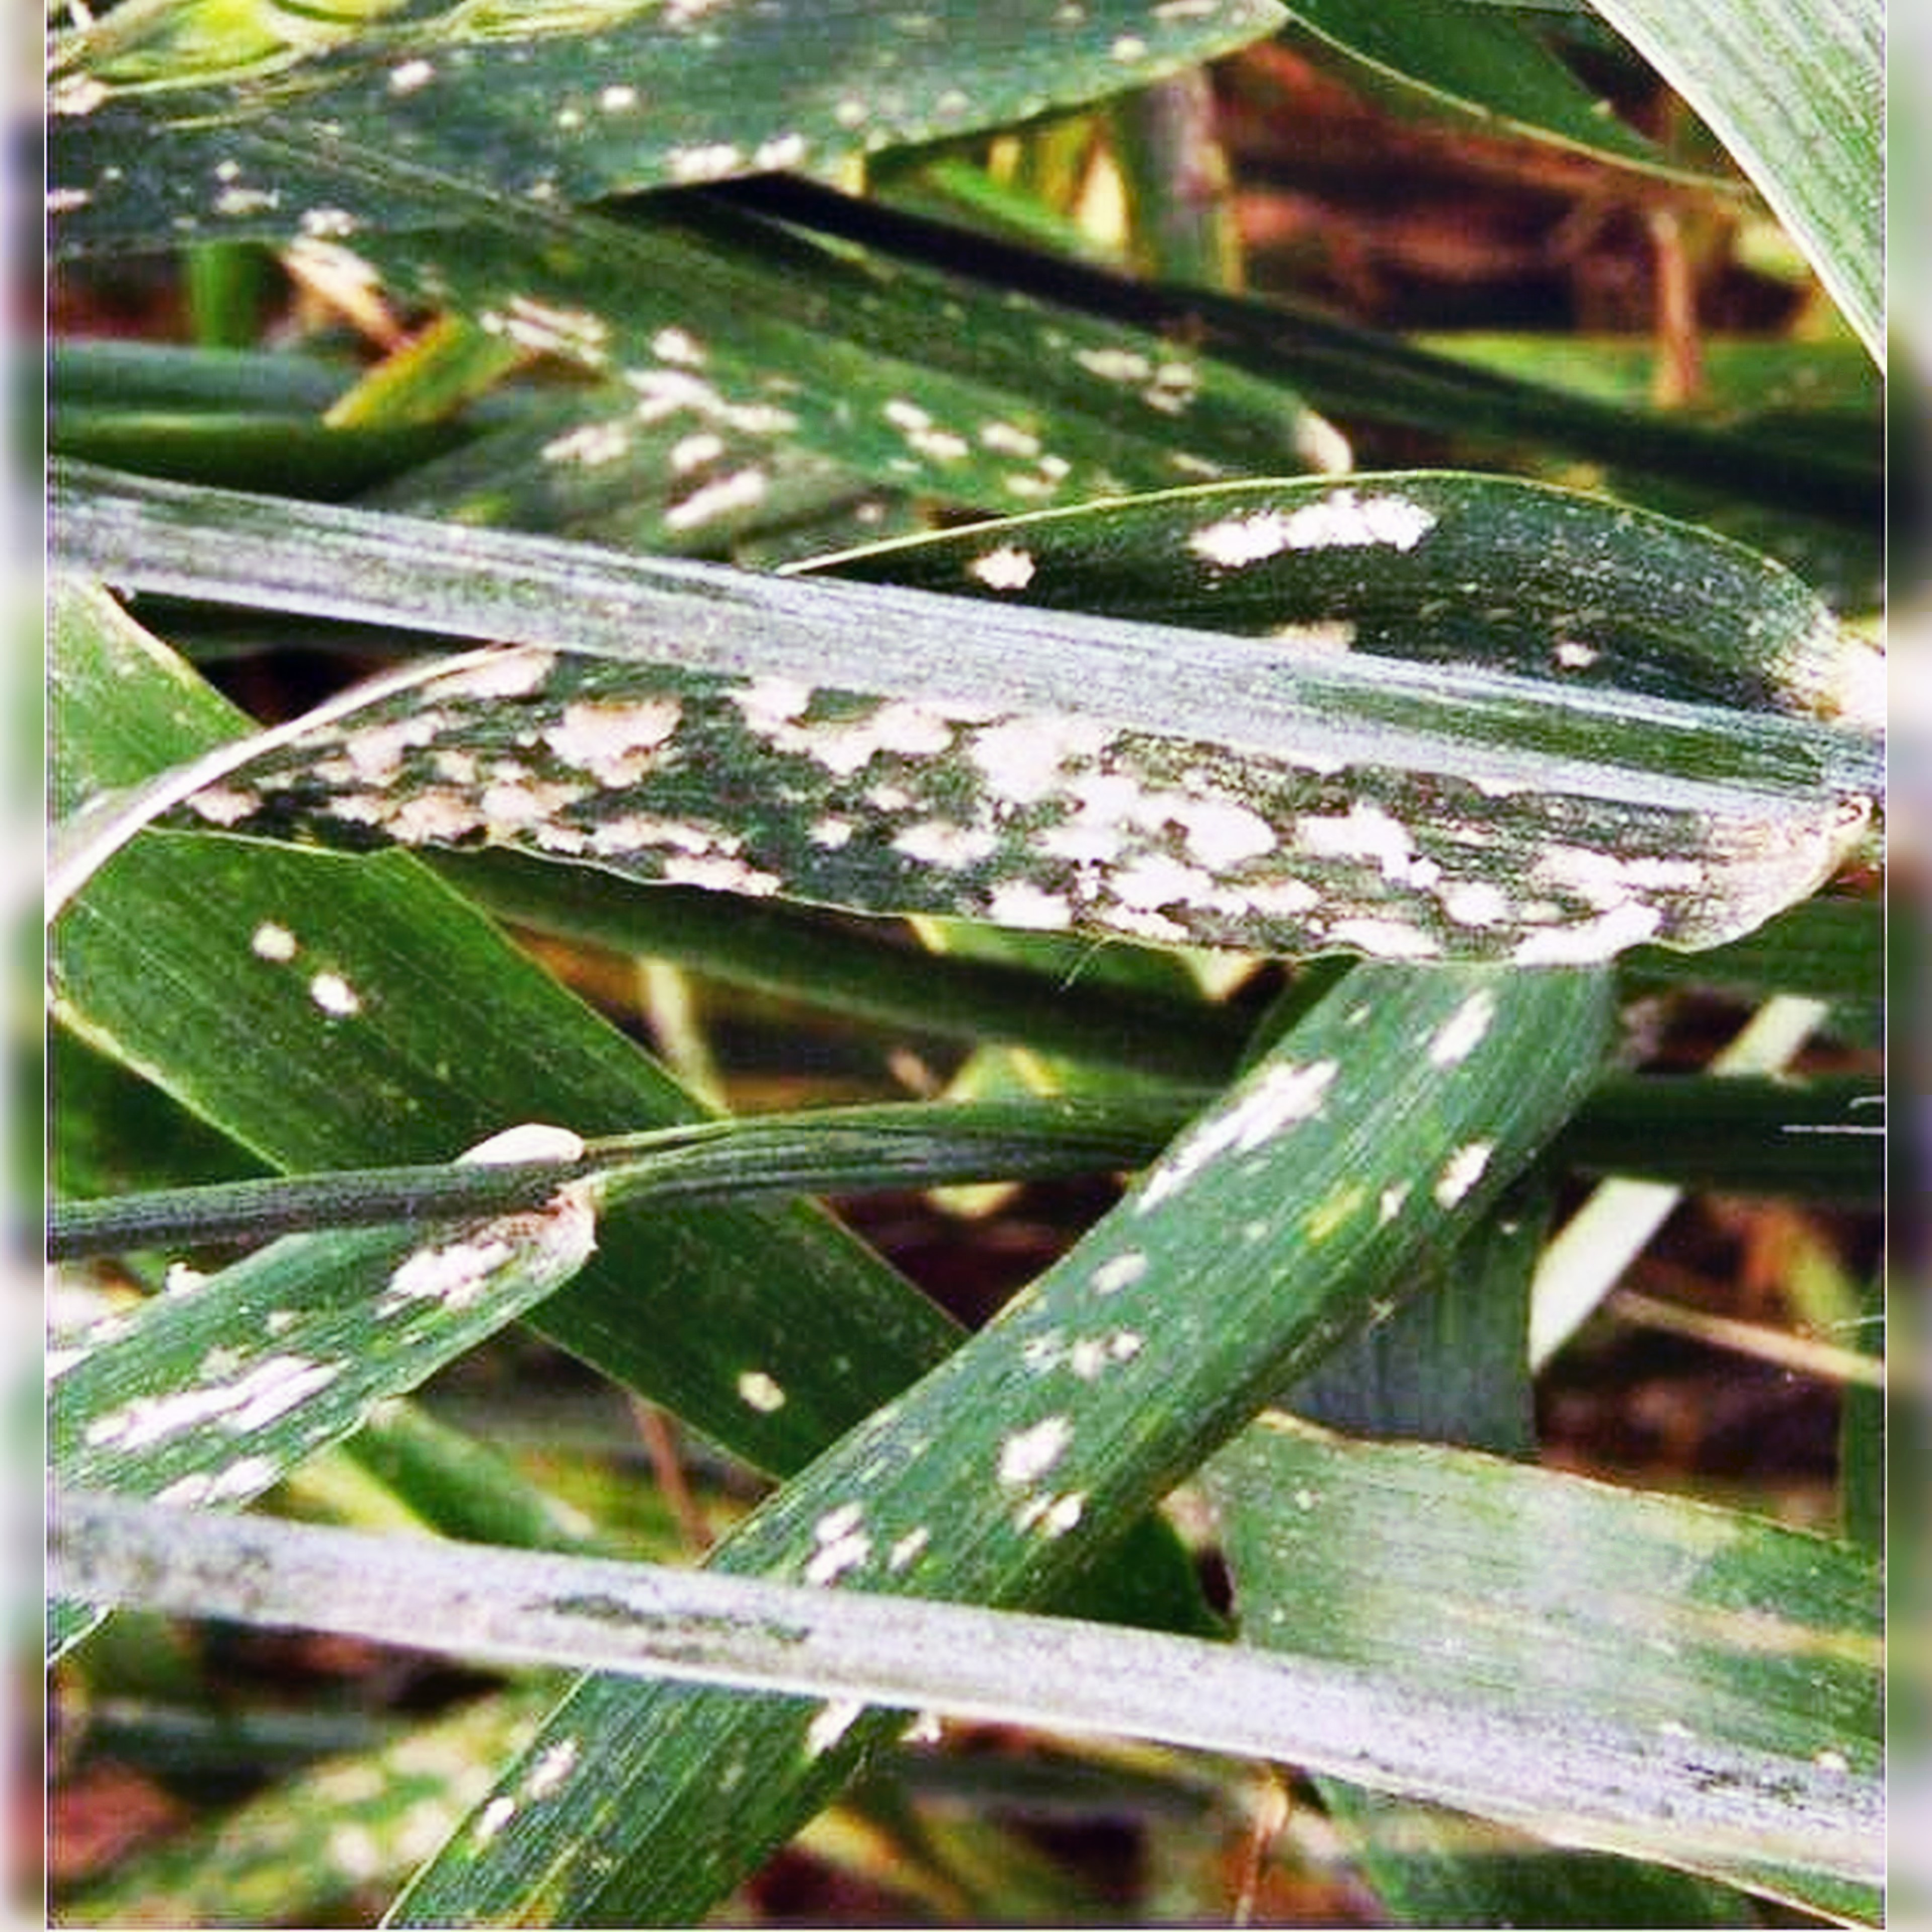Powdery Mildew: (287, 559, 1789, 964)
